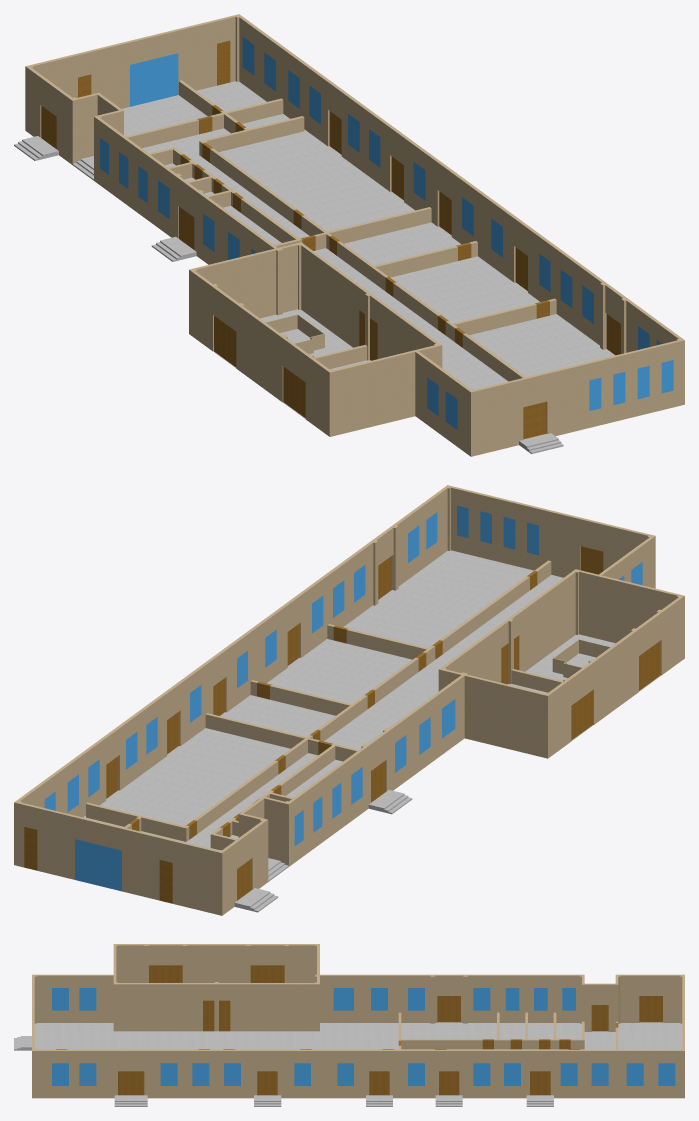
The model's file is 35kV_Substation_expansion.glb.
3 renders of one model, top to bottom at view 1: azimuth 30°, elevation 25°; view 2: azimuth 150°, elevation 25°; view 3: azimuth 270°, elevation 25°, orthographic. The views are drawn at different scales.
Parts seen in each view (by area): view 1: Floor1; view 2: Floor1; view 3: Floor1.
Part boxes in pixels (x1,y1,x2,y2): Floor1: (14, 14, 684, 456); Floor1: (14, 485, 684, 915); Floor1: (14, 944, 684, 1106).
Size of the model in its own units: 24.2 by 4.6 by 59.32.
Materials: 4 (4 with a texture image).
